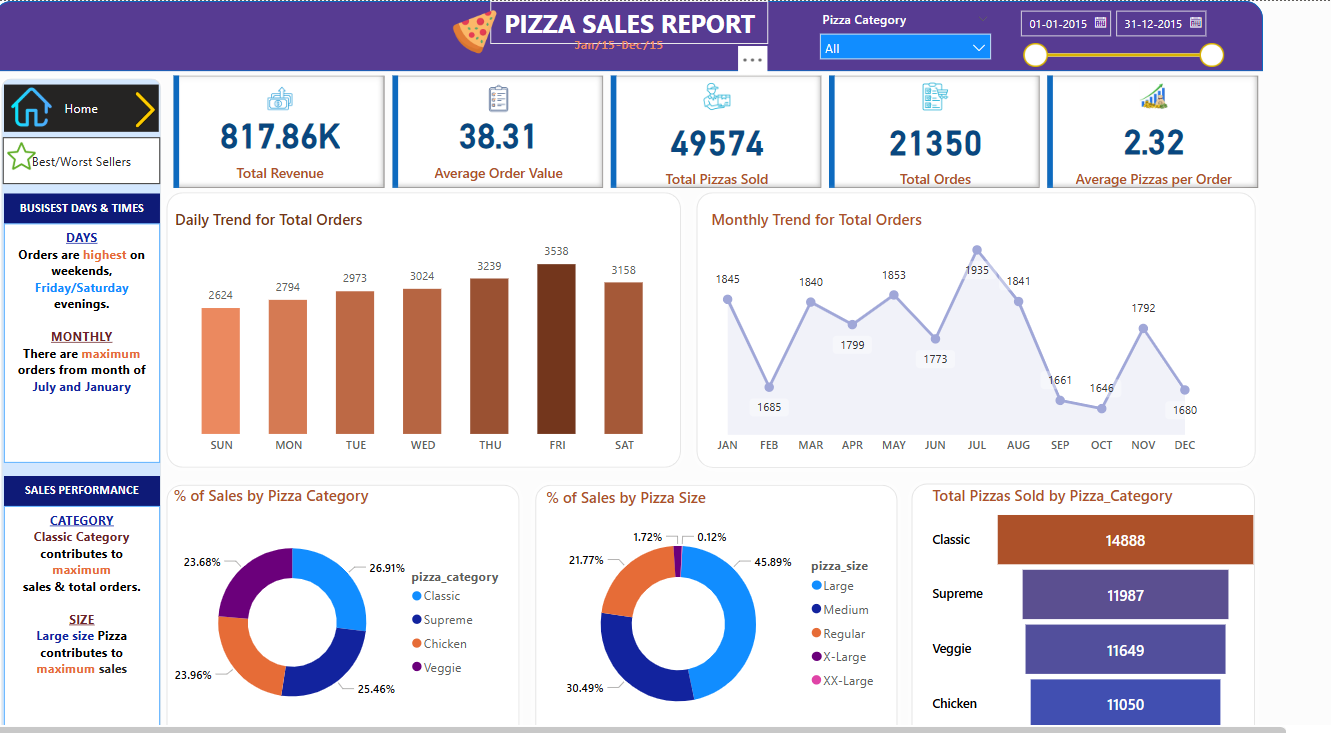

This screenshot's page, from the dashboard's own definition file:
{"tool":"powerbi","page":{"name":"Home","canvas":[1500,820],"ordinal":0},"visuals":[{"type":"shape","box":[0,75,186.2,722.5],"z":0},{"type":"textbox","box":[10,205,166.2,32.5],"z":1000},{"type":"cardVisual","fields":{"Data":["pizza_sales.Total Revenue","pizza_sales.Average Order Value","pizza_sales.Total Pizzas Sold","pizza_sales.Total Ordes","pizza_sales.Average Pizzas per Order"]},"box":[186.2,75,1167.5,130],"z":2000},{"type":"shape","box":[0,0,1353.8,75],"z":3000},{"type":"textbox","box":[528.8,0,297.5,46.2],"z":4000},{"type":"textbox","box":[613.8,32.5,122.5,32.5],"z":5000},{"type":"image","box":[483.8,0,57.5,65],"z":6000},{"type":"shape","box":[176.2,196.2,565,310],"z":7000},{"type":"columnChart","title":"Daily Trend for Total Orders","fields":{"Category":["pizza_sales.Order Day"],"Y":["pizza_sales.Total Ordes"]},"box":[188,221.3,540,270.7],"z":8000},{"type":"shape","box":[741.2,196.2,612.5,310],"z":9000},{"type":"areaChart","title":"Monthly Trend for Total Orders","fields":{"Y":["pizza_sales.Total Ordes"],"Category":["pizza_sales.Order Month"]},"box":[760,221.3,533.3,270.7],"z":10000},{"type":"shape","box":[176.2,507.5,392.5,291.2],"z":11000},{"type":"shape","box":[568.8,507.5,402.5,291.2],"z":12000},{"type":"shape","box":[971.2,506.2,382.5,291.2],"z":13000},{"type":"donutChart","title":"% of Sales by Pizza Category","fields":{"Category":["pizza_sales.pizza_category"],"Y":["pizza_sales.Total Revenue"]},"box":[186.2,516.2,372.5,272.5],"z":14000},{"type":"donutChart","title":"% of Sales by Pizza Size","fields":{"Y":["pizza_sales.Total Revenue"],"Category":["pizza_sales.pizza_size"]},"box":[583.8,517.5,372.5,272.5],"z":15000},{"type":"funnel","title":"Total Pizzas Sold by Pizza_Category","fields":{"Category":["pizza_sales.pizza_category"],"Y":["pizza_sales.Total Pizzas Sold"]},"box":[996.2,516.2,357.5,271.2],"z":16000},{"type":"textbox","box":[10,237.5,166.2,255],"z":17000},{"type":"textbox","box":[10,506.2,166.2,32.5],"z":18000},{"type":"textbox","box":[10,538.8,166.2,255],"z":19000},{"type":"slicer","fields":{"Values":["pizza_sales.pizza_category"]},"box":[870,5,202.5,60],"z":20000},{"type":"slicer","fields":{"Values":["pizza_sales.order_date"]},"box":[1082.5,0,237.5,75],"z":21000},{"type":"pageNavigator","box":[10.7,89.3,165.3,50.7],"z":22000},{"type":"pageNavigator","box":[9.3,145.3,168,50.7],"z":23000},{"type":"image","box":[117.3,92,88,48],"z":24000},{"type":"image","box":[0,86.7,80,53.3],"z":25000},{"type":"image","box":[9.3,145.3,40,40],"z":26000}]}

Visuals, with their boxes in screenshot pixels (x1, y1, x2, y2), scaled from the page's 1500x820 canvas onto the 1331x733 screenshot:
shape: [x1=0, y1=67, x2=165, y2=713]
textbox: [x1=9, y1=183, x2=156, y2=212]
cardVisual - pizza_sales.Total Revenue x pizza_sales.Average Order Value: [x1=165, y1=67, x2=1201, y2=183]
shape: [x1=0, y1=0, x2=1201, y2=67]
textbox: [x1=469, y1=0, x2=733, y2=41]
textbox: [x1=545, y1=29, x2=653, y2=58]
image: [x1=429, y1=0, x2=480, y2=58]
shape: [x1=156, y1=175, x2=658, y2=452]
"Daily Trend for Total Orders" columnChart: [x1=167, y1=198, x2=646, y2=440]
shape: [x1=658, y1=175, x2=1201, y2=452]
"Monthly Trend for Total Orders" areaChart: [x1=674, y1=198, x2=1148, y2=440]
shape: [x1=156, y1=454, x2=505, y2=714]
shape: [x1=505, y1=454, x2=862, y2=714]
shape: [x1=862, y1=452, x2=1201, y2=713]
"% of Sales by Pizza Category" donutChart: [x1=165, y1=461, x2=496, y2=705]
"% of Sales by Pizza Size" donutChart: [x1=518, y1=463, x2=849, y2=706]
"Total Pizzas Sold by Pizza_Category" funnel: [x1=884, y1=461, x2=1201, y2=704]
textbox: [x1=9, y1=212, x2=156, y2=440]
textbox: [x1=9, y1=452, x2=156, y2=482]
textbox: [x1=9, y1=482, x2=156, y2=710]
slicer - pizza_sales.pizza_category: [x1=772, y1=4, x2=952, y2=58]
slicer - pizza_sales.order_date: [x1=961, y1=0, x2=1171, y2=67]
pageNavigator: [x1=9, y1=80, x2=156, y2=125]
pageNavigator: [x1=8, y1=130, x2=157, y2=175]
image: [x1=104, y1=82, x2=182, y2=125]
image: [x1=0, y1=78, x2=71, y2=125]
image: [x1=8, y1=130, x2=44, y2=166]
